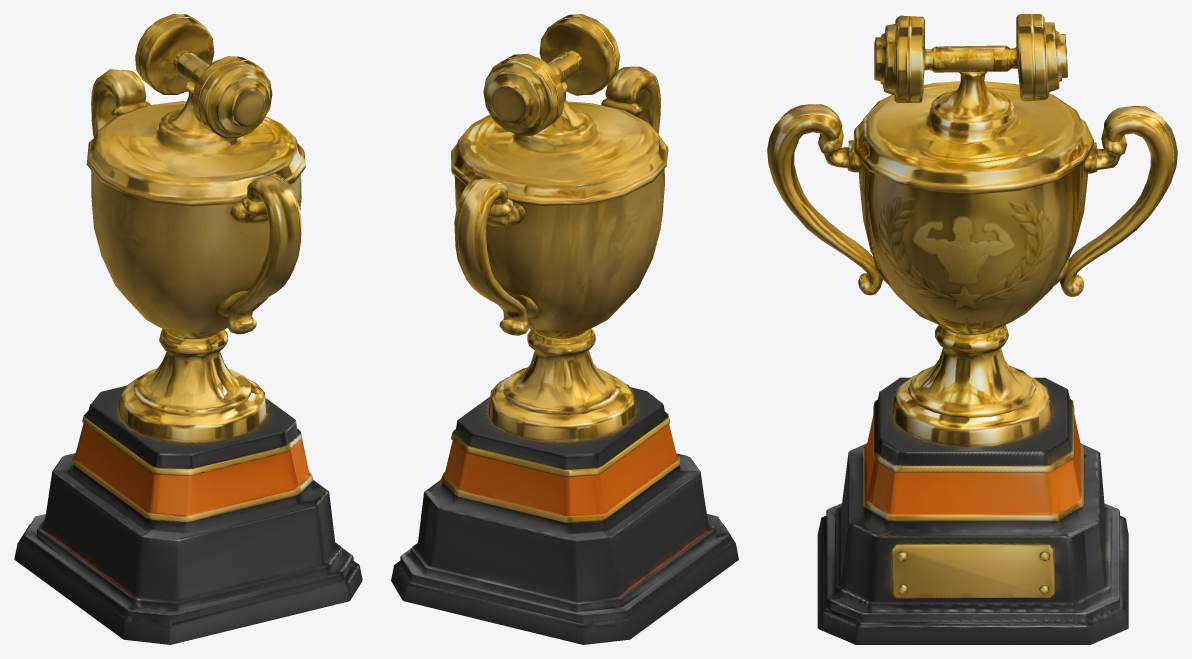
Rendered from trophy.glb.
3 views of the same model, side by side, from view 1: azimuth 30°, elevation 25°; view 2: azimuth 150°, elevation 25°; view 3: azimuth 270°, elevation 25° (orthographic). The views are drawn at different scales.
Parts seen in each view (by area): view 1: tripo_node_620155dc-a753-4938-916a-eadf3140770f; view 2: tripo_node_620155dc-a753-4938-916a-eadf3140770f; view 3: tripo_node_620155dc-a753-4938-916a-eadf3140770f.
Part boxes in pixels (x1,y1,x2,y2): tripo_node_620155dc-a753-4938-916a-eadf3140770f: (14, 14, 362, 644); tripo_node_620155dc-a753-4938-916a-eadf3140770f: (391, 14, 738, 644); tripo_node_620155dc-a753-4938-916a-eadf3140770f: (767, 14, 1177, 644).
Size of the model in its own units: 0.1664 by 0.35 by 0.2281.
1 material, 1 textured.
